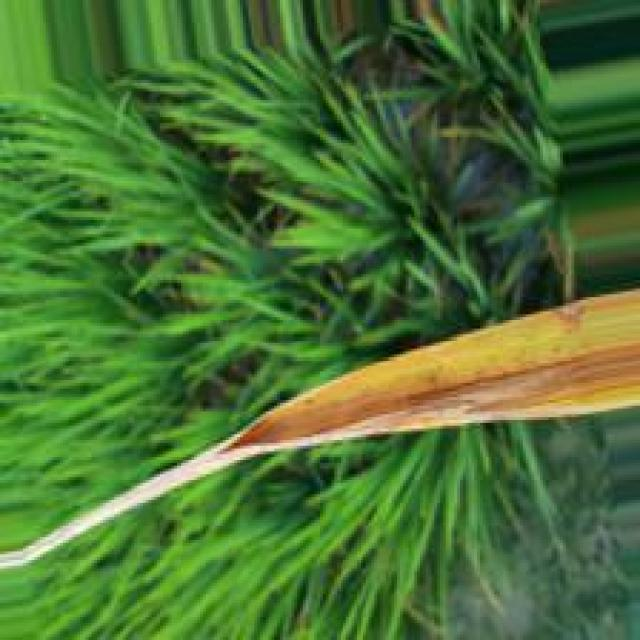Bacterial_Leaf_Blight: (0, 296, 640, 577)
